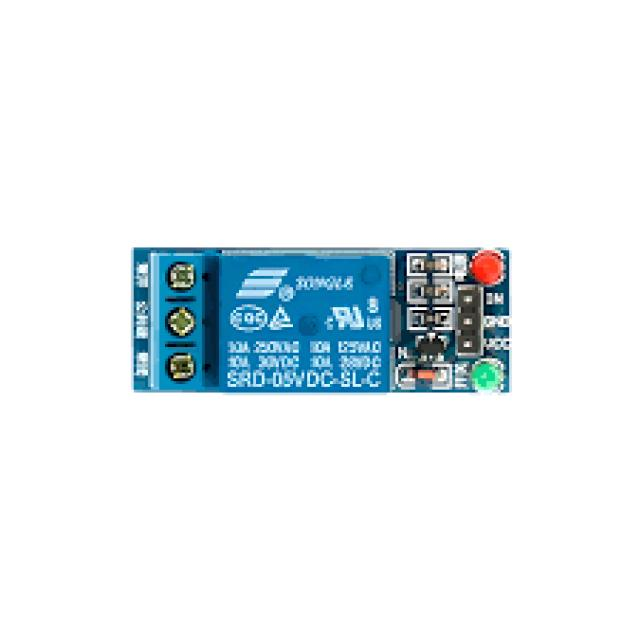Relay: (131, 247, 512, 398)
